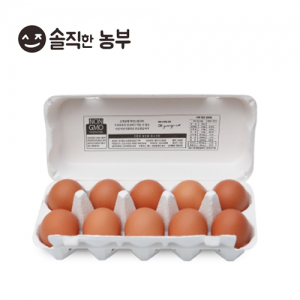egg: (39, 179, 255, 251)
